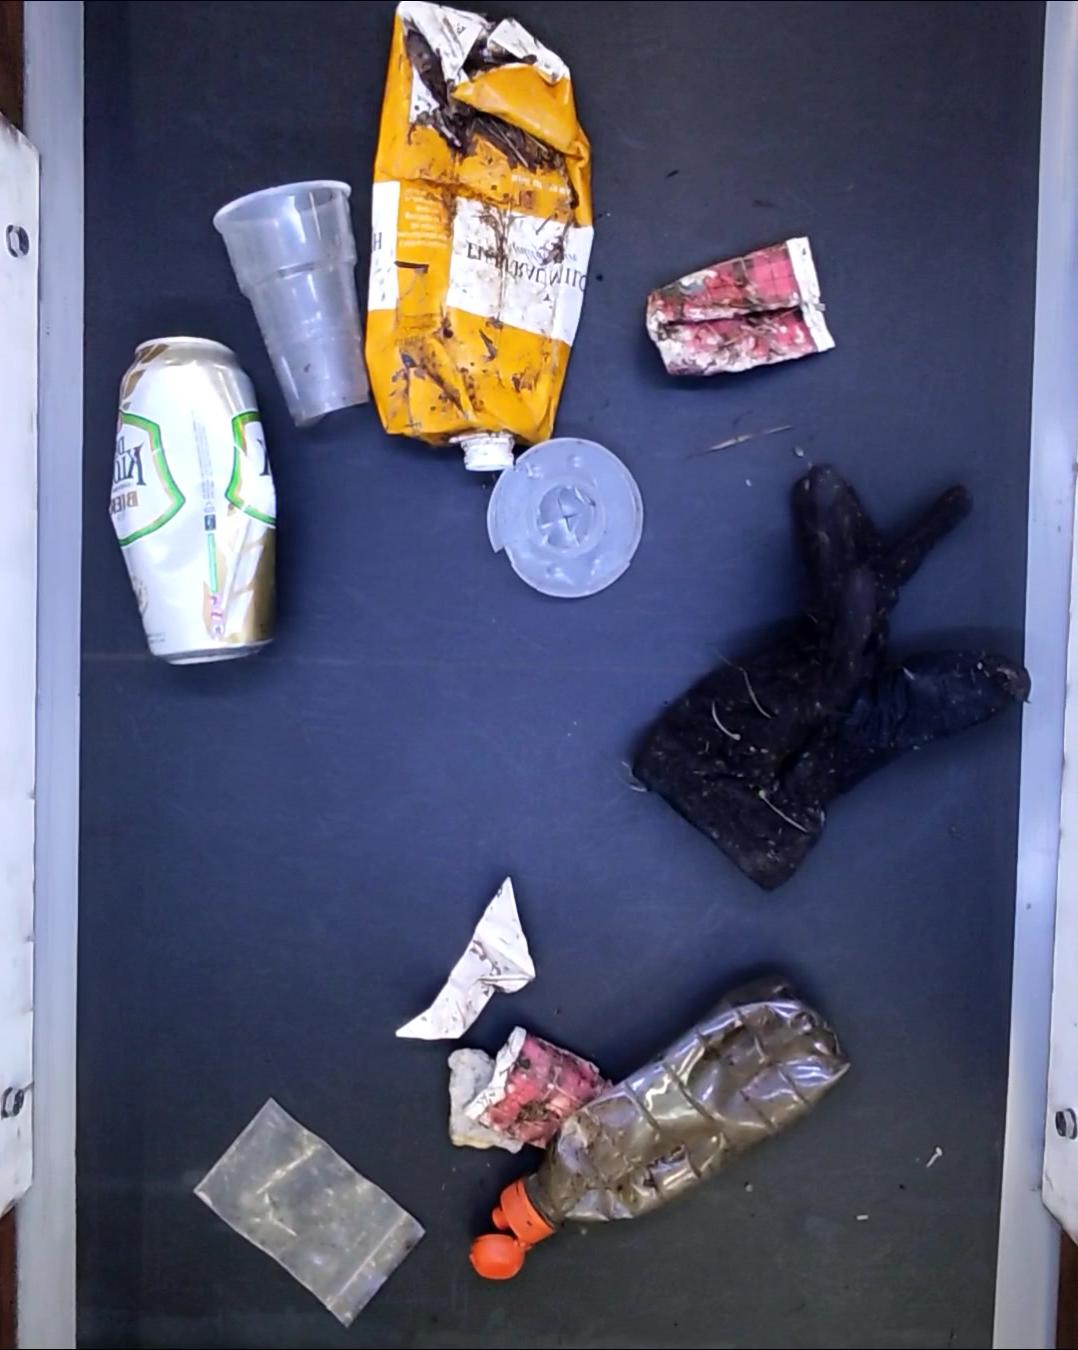Drankblikjes: (110, 331, 278, 668)
Drankflessen - 1-2 liter: (469, 965, 844, 1287)
